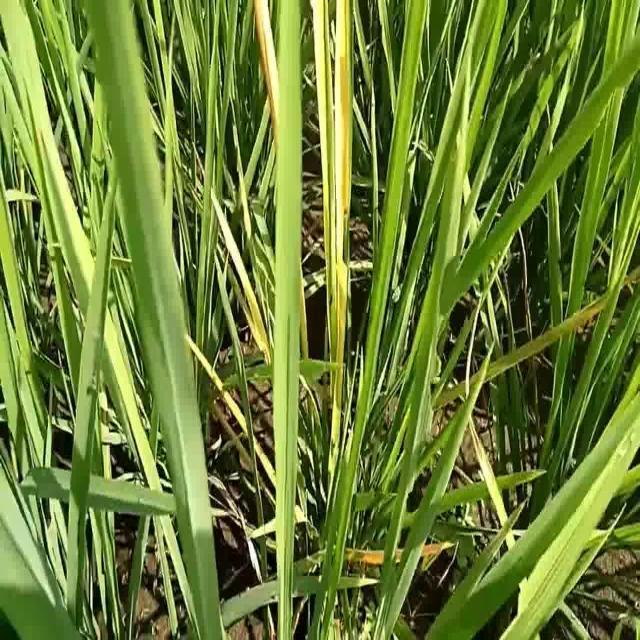Rice Tungro: (251, 1, 311, 351), (207, 185, 267, 361), (312, 2, 338, 294), (333, 3, 353, 366)
